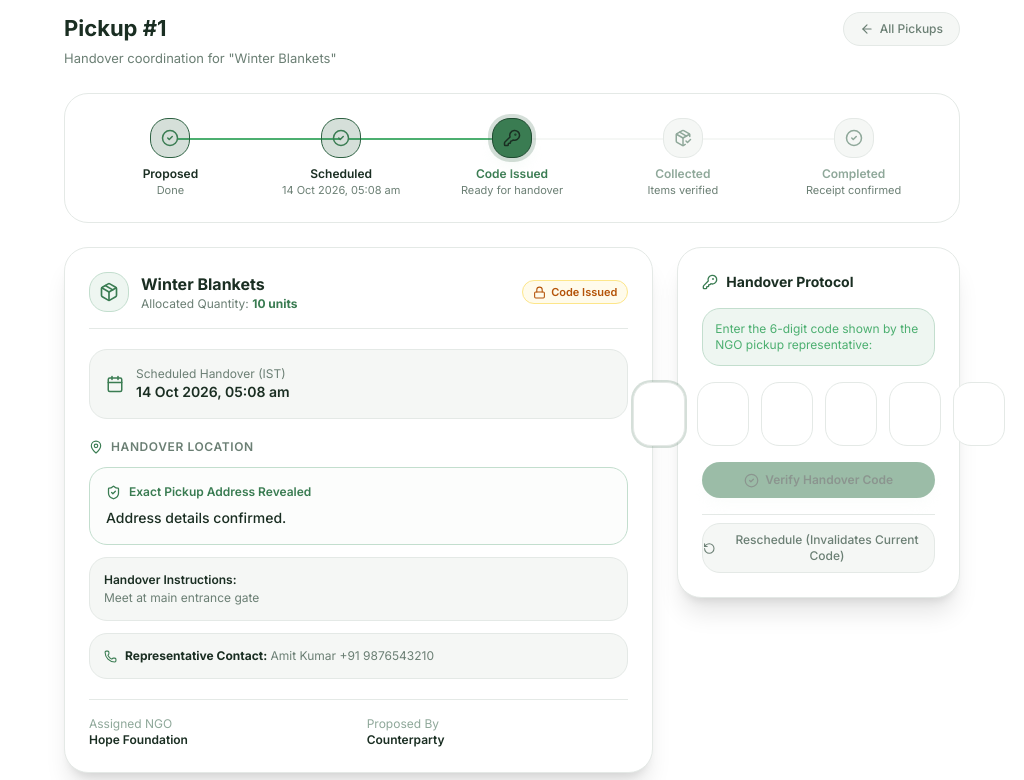
Test: Phase 15: Pickups, OTP Verification & Notification Centre › T-15.1-05: donor enters valid 6-digit OTP -> collected state
Type "8" into the field named "Digit 1 of 6". click: [659, 414]
box: [633,382,685,446]
Type "2" into the field named "Digit 2 of 6". click: [723, 414]
box: [697,382,749,446]
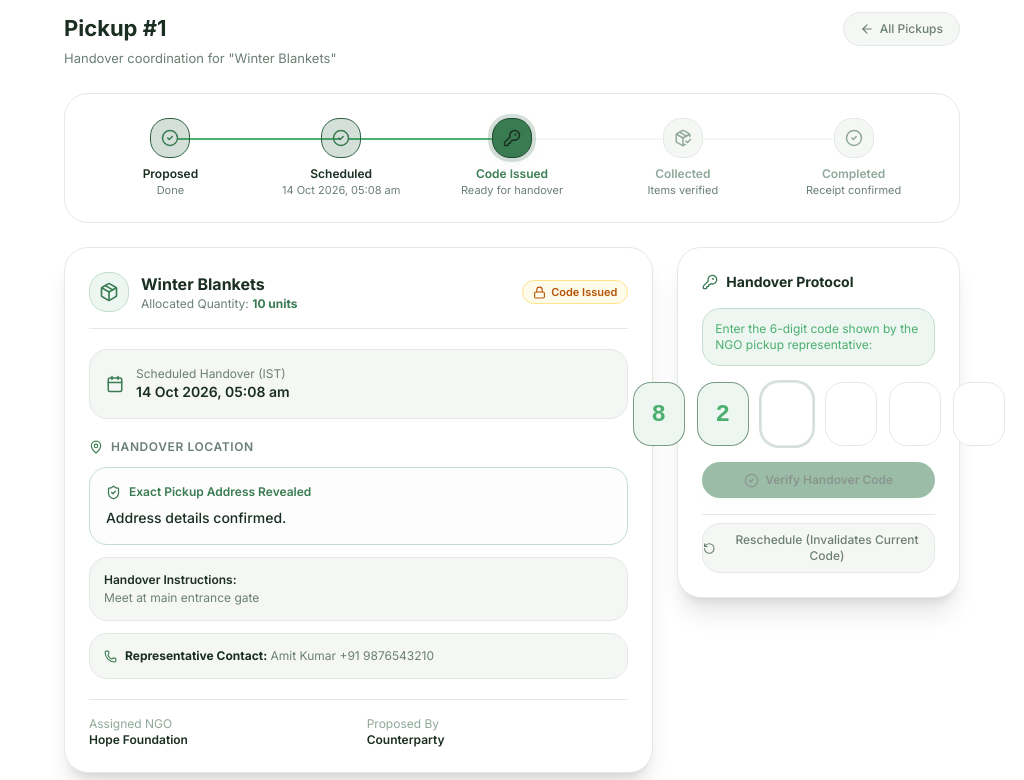
Type "4" into the field named "Digit 3 of 6". click: [787, 414]
box: [761,382,813,446]
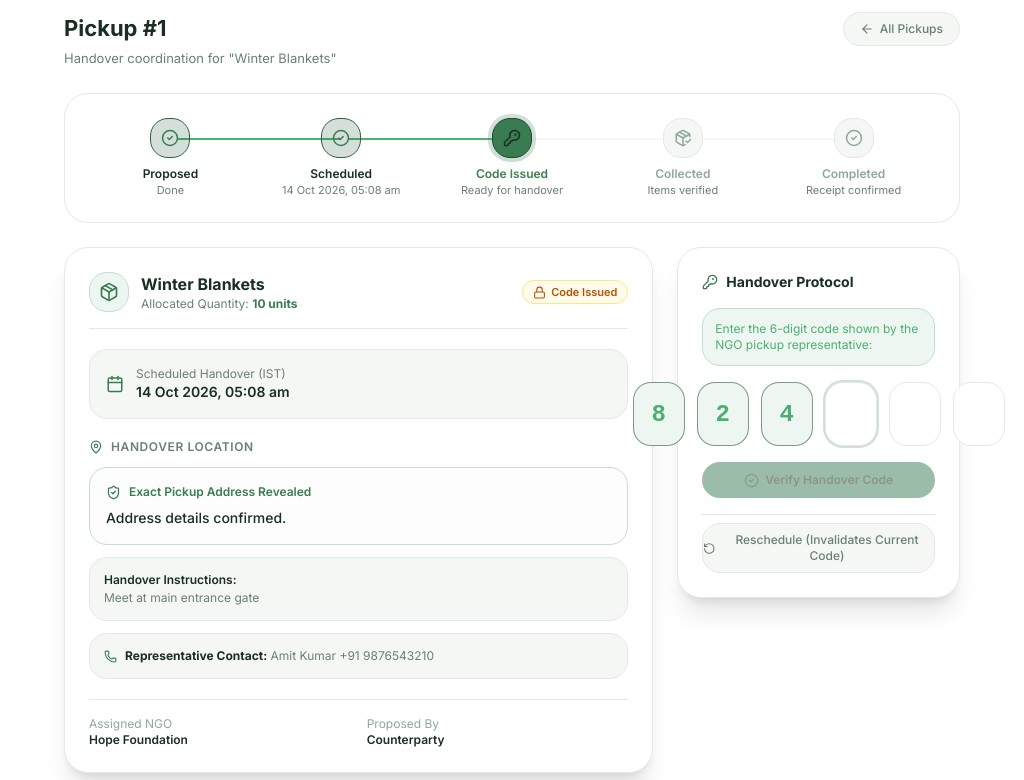
Type "1" into the field named "Digit 4 of 6". click: [851, 414]
box: [825,382,877,446]
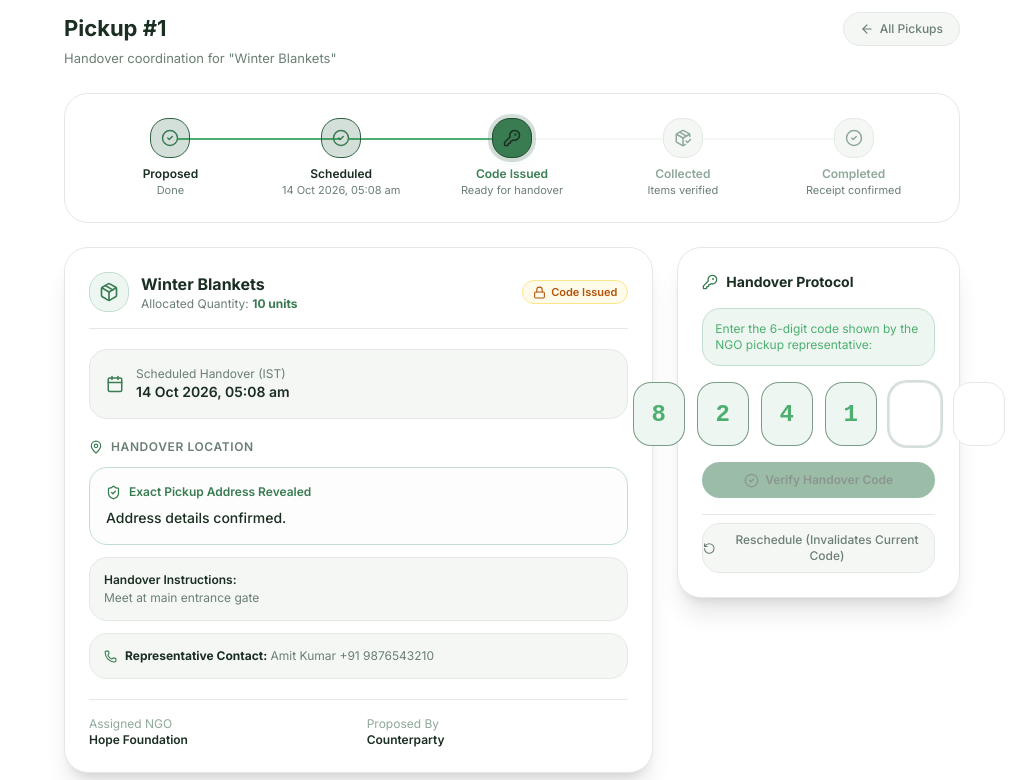
Type "9" into the field named "Digit 5 of 6". click: [915, 414]
box: [889,382,941,446]
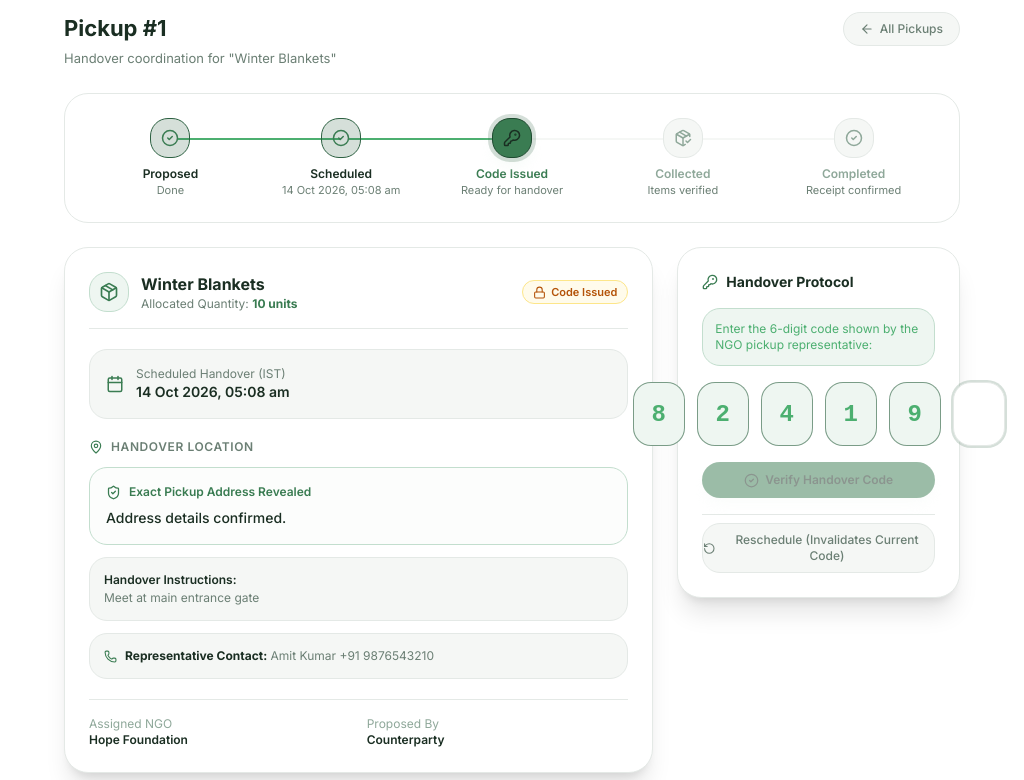
Type "0" into the field named "Digit 6 of 6". click: [979, 414]
box: [953,382,1005,446]
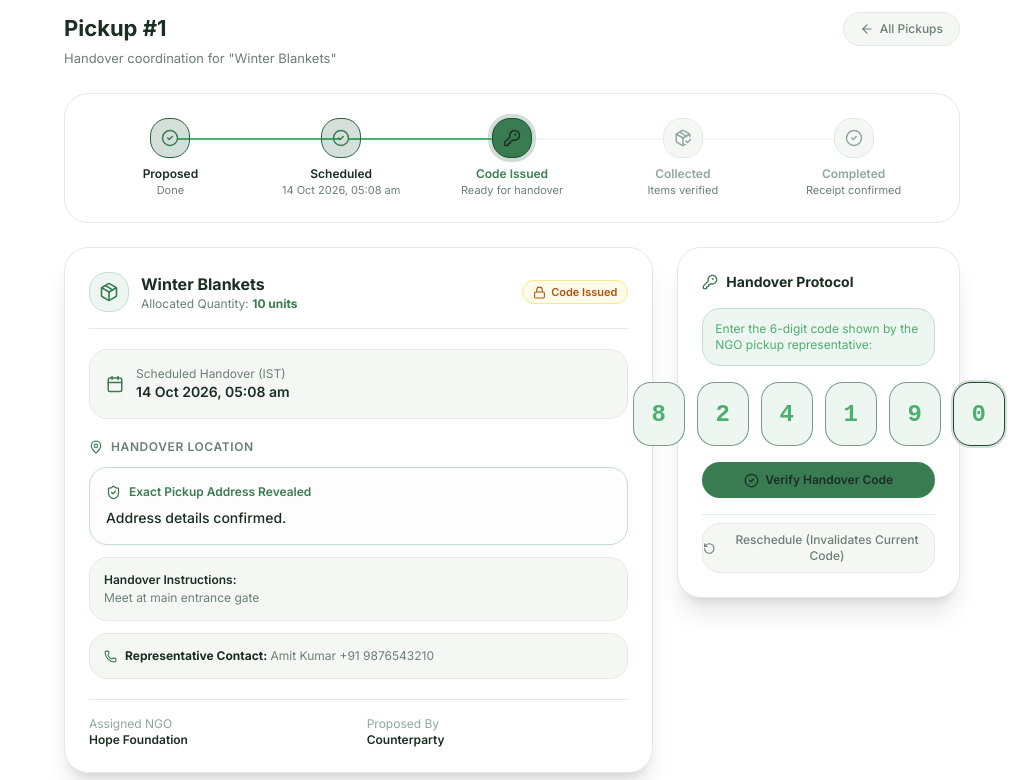
Click the button "Verify Handover Code". click: [819, 480]
box: [702,462,935,498]
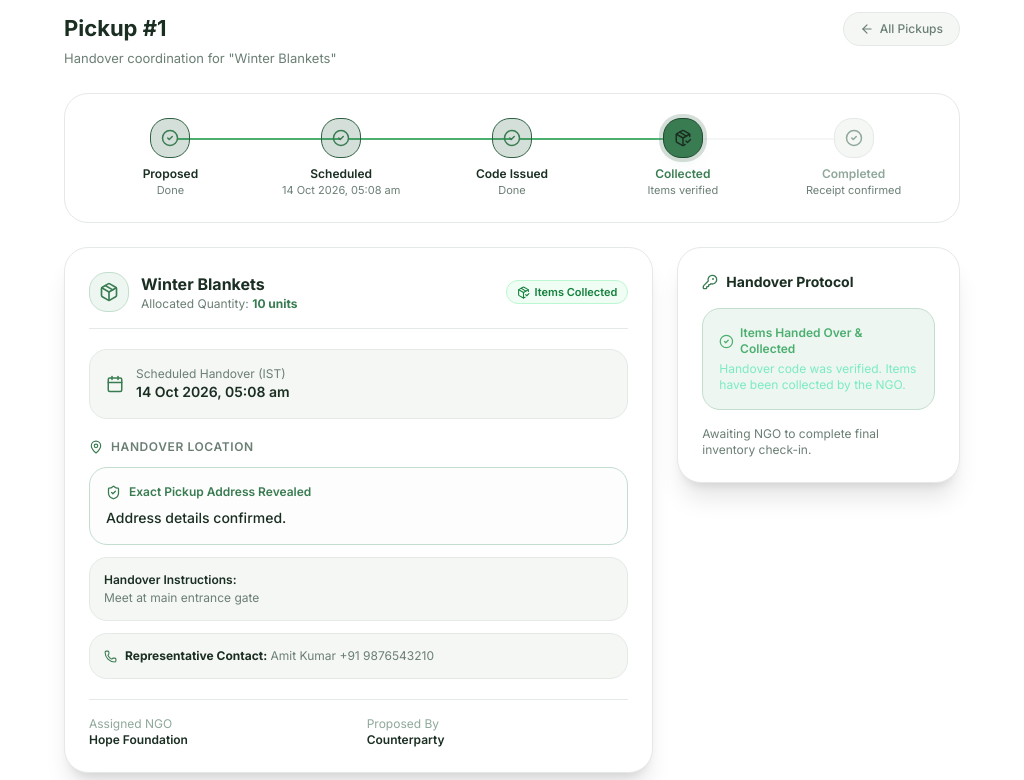
Expected: the text "Items Handed Over & Collected" is shown, [740,325,862,356]
